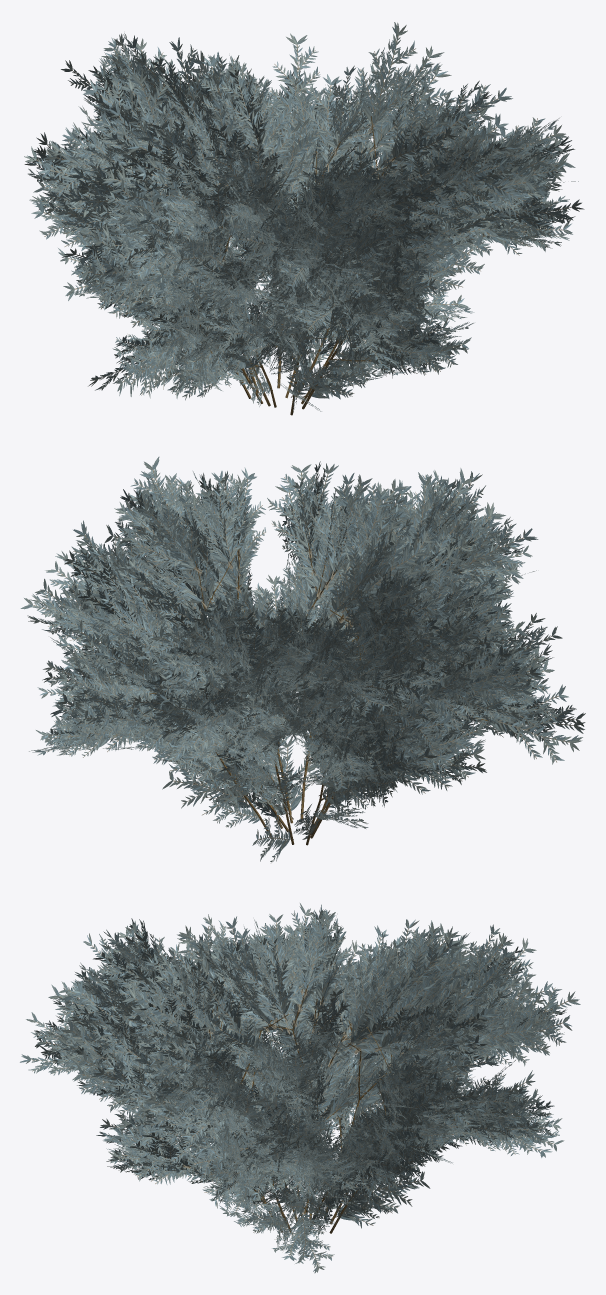
File: sagebrush_grey_v02.glb
3 renders of one model, top to bottom at view 1: azimuth 30°, elevation 25°; view 2: azimuth 150°, elevation 25°; view 3: azimuth 270°, elevation 25°, orthographic. The views are drawn at different scales.
Parts seen in each view (by area): view 1: sagebrush_grey_v02; view 2: sagebrush_grey_v02; view 3: sagebrush_grey_v02.
Boxes of the visible parts, x1=… form: sagebrush_grey_v02: x1=24, y1=22, x2=584, y2=415; sagebrush_grey_v02: x1=20, y1=456, x2=585, y2=862; sagebrush_grey_v02: x1=20, y1=903, x2=580, y2=1273.
Size of the model in its own units: 1.3 by 0.85 by 1.4.
2 materials, 2 textured.
